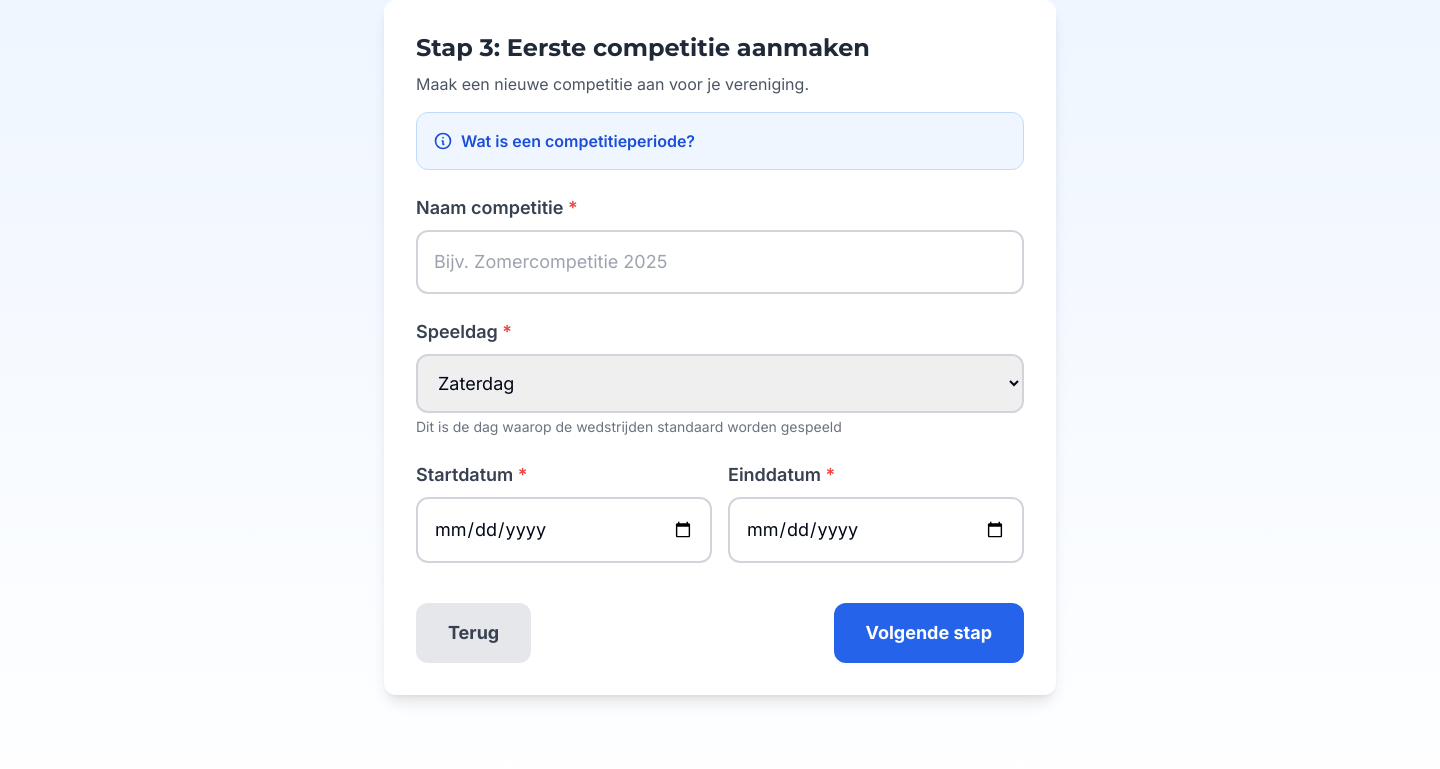
CompetitionStep › Help section › should show help text when help button is clicked
The width and height of the screenshot is (1440, 769).
Click the button "Wat is een competitieperiode?" at (564, 141), box [433,129,695,153]
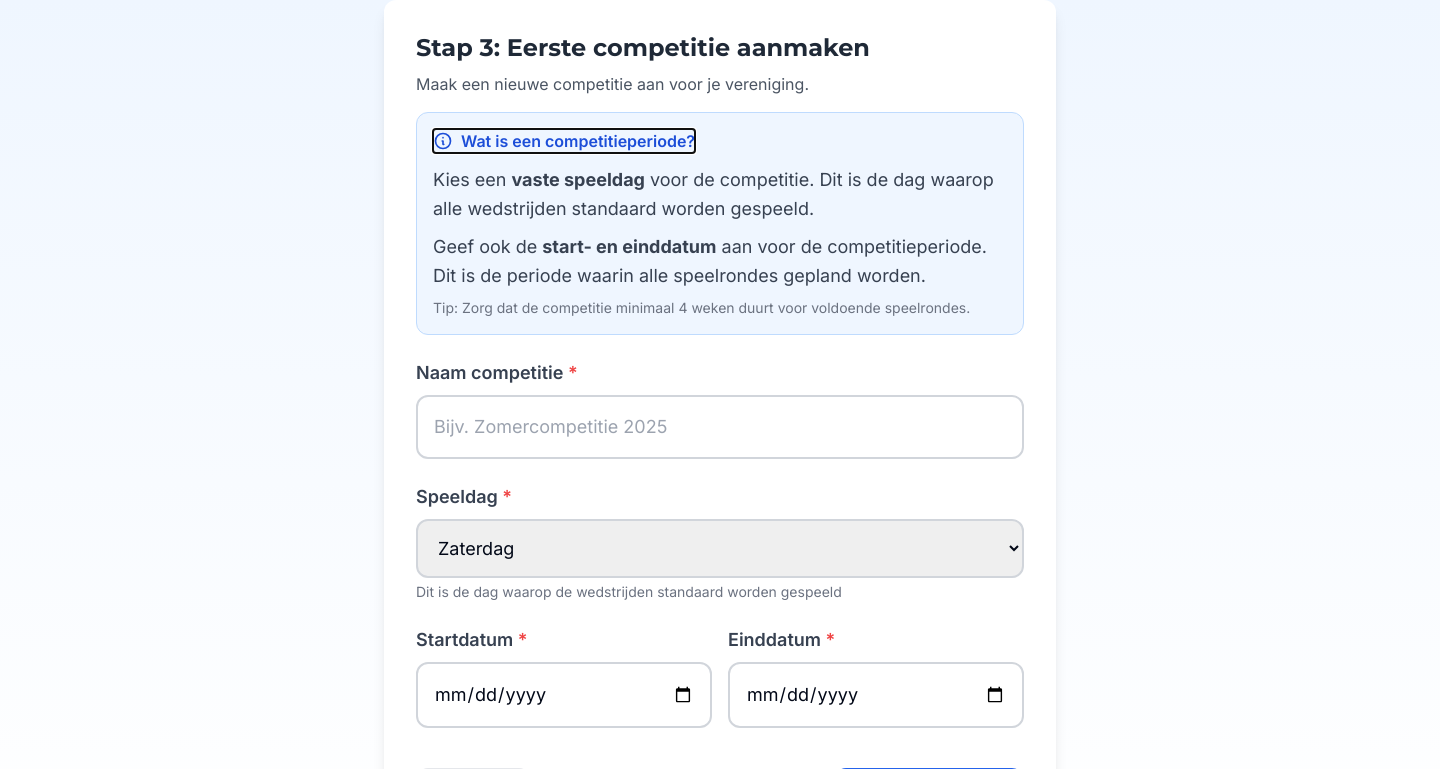
Expected: the text "vaste speeldag" is shown, [512,169,645,190]
Expected: the text "minimaal 4 weken" is shown, [433,299,970,316]
